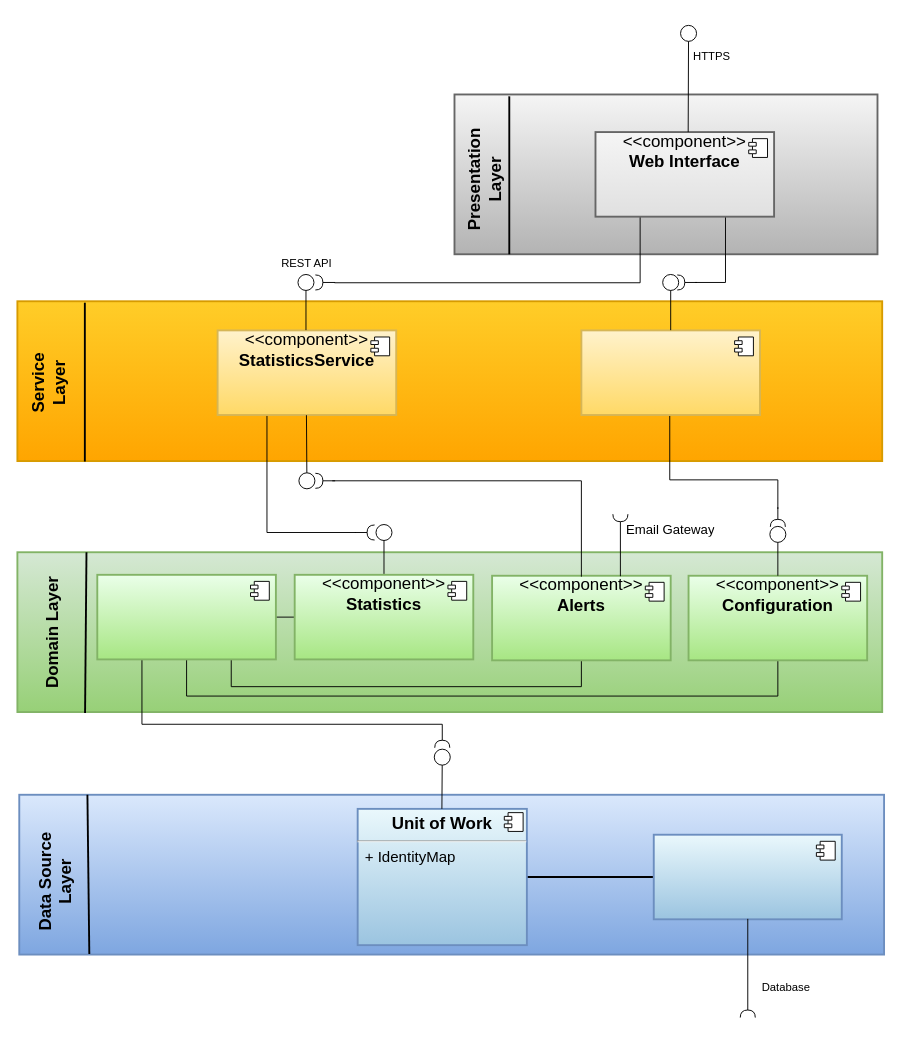
Image size: 901x1039. Some labels were removed from this diagram. The centre of each missing label's shape, as x and y in pixels:
<<component>> ConfigurationService: point (670, 372)
<<component>> Database Driver: point (747, 876)
<<component>> Domain Model: point (186, 616)
